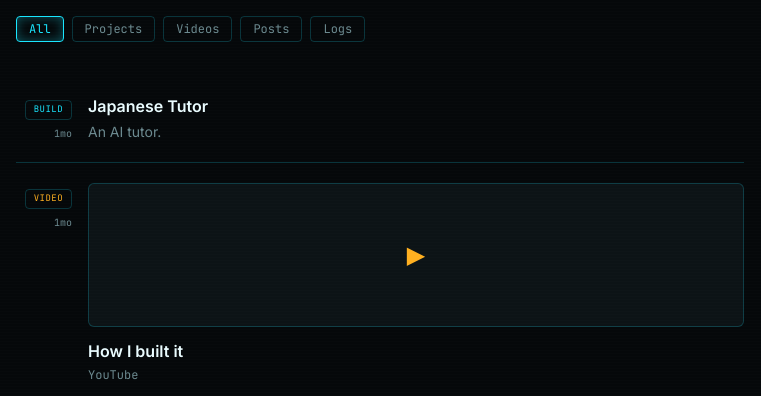
Test: Feed filtering › shows only videos when the Videos chip is clicked, and all again on All
Check: the heading "Japanese Tutor" is shown, box x1=88 y1=96 x2=208 y2=116
Check: the heading "How I built it" is shown, box x1=88 y1=341 x2=183 y2=361
Click the button "Videos": (198, 29) x1=163 y1=16 x2=232 y2=42
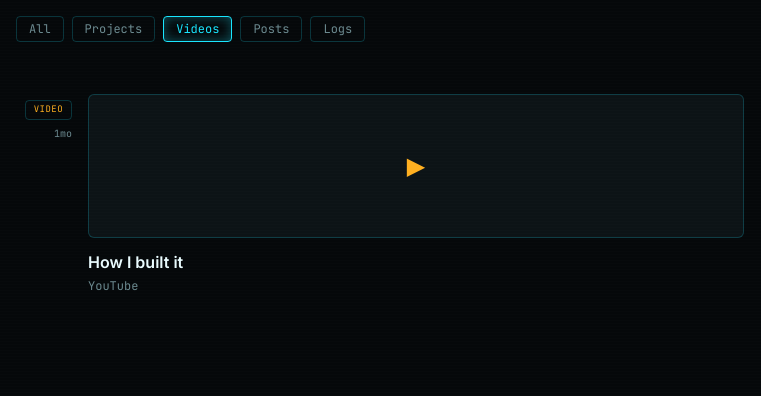
Check: the heading "How I built it" is shown, box x1=88 y1=252 x2=183 y2=272
Check: the heading "Japanese Tutor" is gone
Click the button "All": (40, 29) x1=16 y1=16 x2=64 y2=42
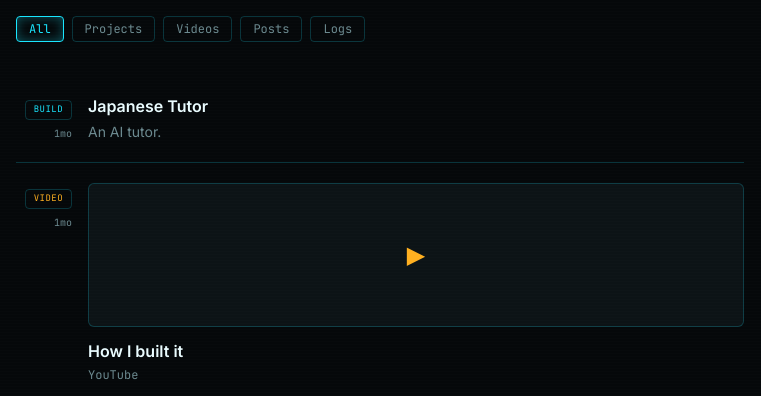
Check: the heading "How I built it" is shown, box x1=88 y1=341 x2=183 y2=361
Check: the heading "Japanese Tutor" is shown, box x1=88 y1=96 x2=208 y2=116
